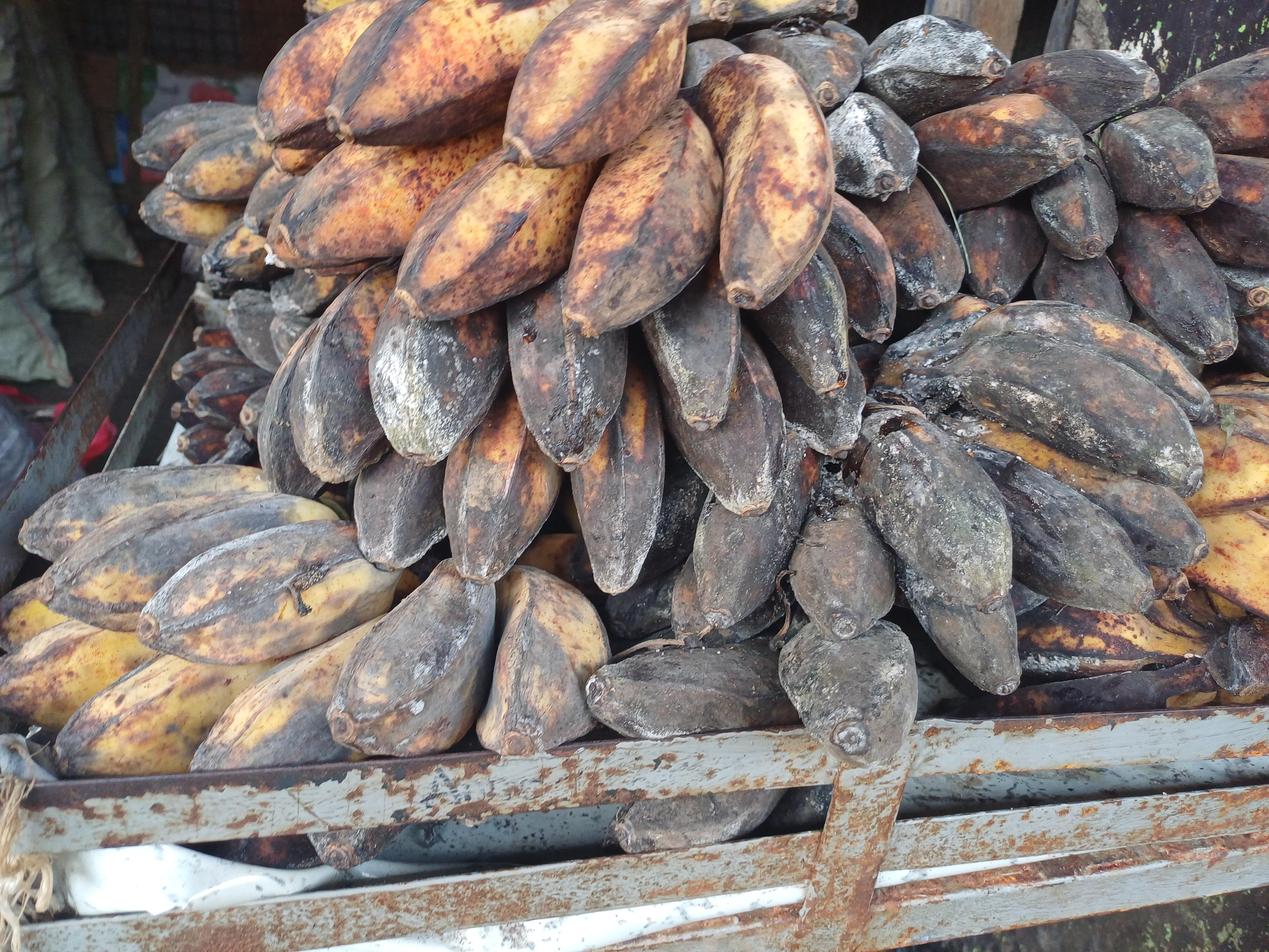overripe: (258, 192, 896, 592), (670, 295, 1218, 695), (0, 465, 609, 777), (735, 15, 1158, 310), (961, 49, 1269, 371), (586, 620, 917, 768), (131, 100, 315, 301)
ripe: (258, 0, 834, 336)
